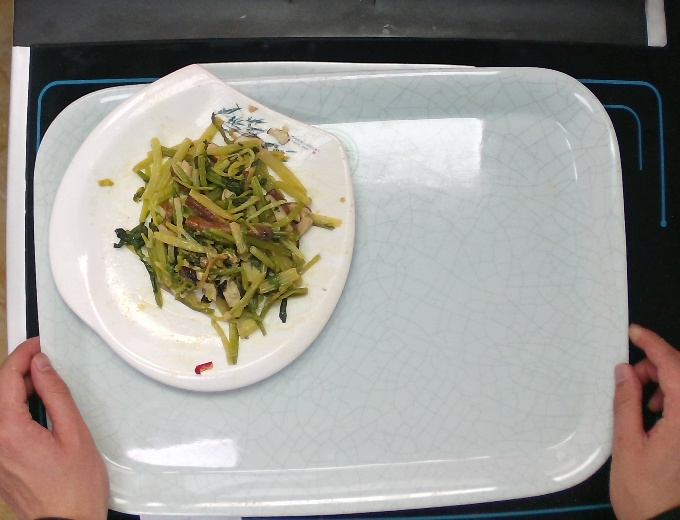JYsf-Mian_Pan: (43, 60, 359, 396)
